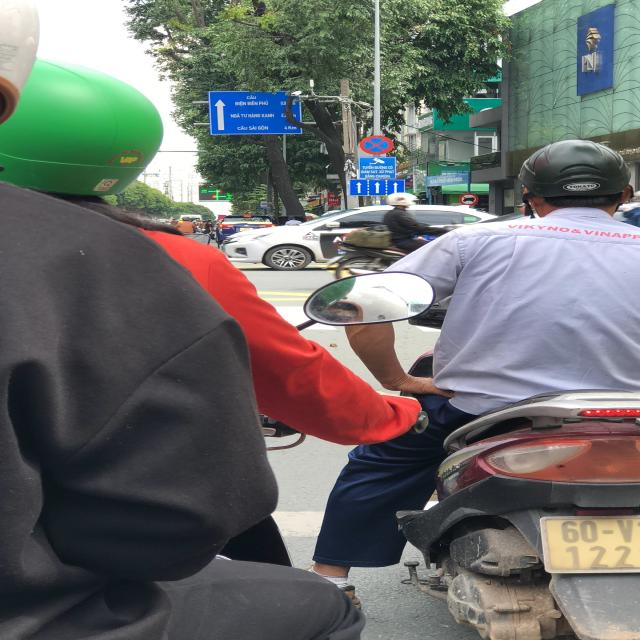Bien bao cam dung xe va do xe: (356, 136, 398, 156)
Bien bao cam xe oto tai: (457, 191, 480, 206)
